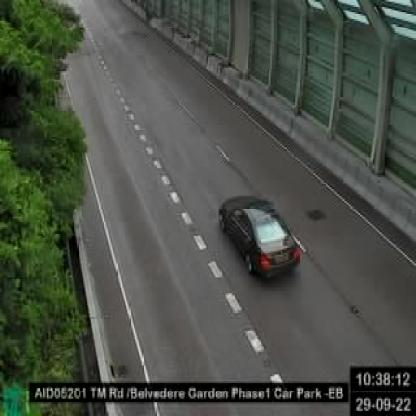Car: (209, 187, 312, 283)
